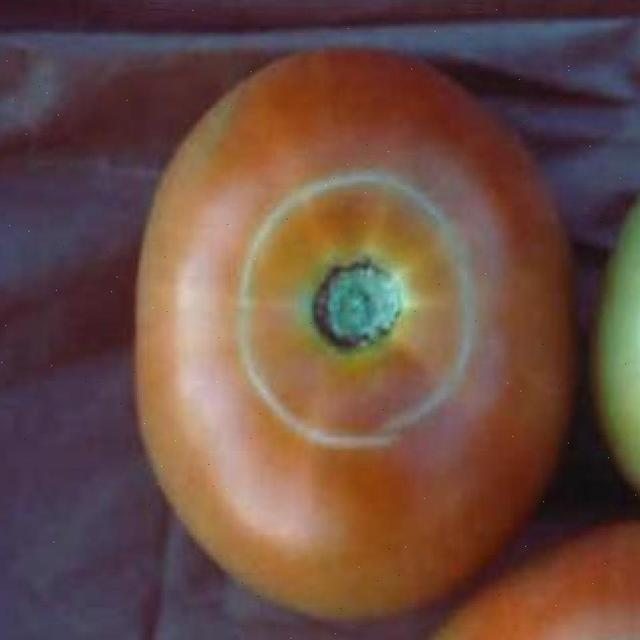Cracking Fruit: (147, 108, 320, 300)
